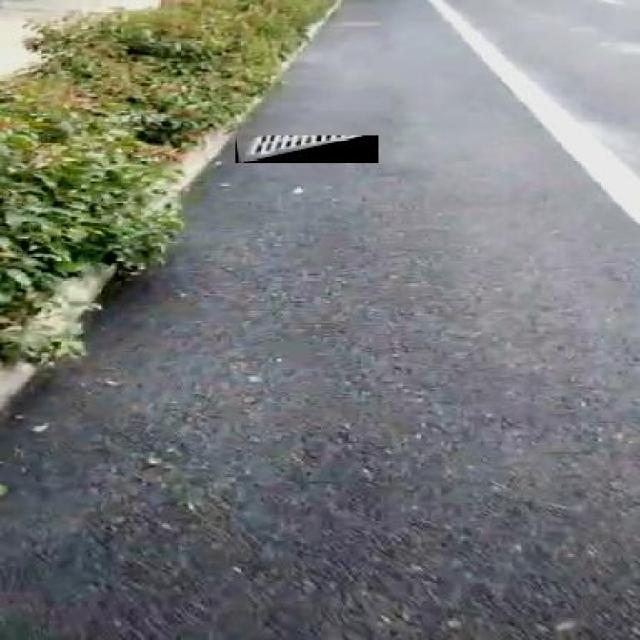Manhole: (235, 134, 378, 164)
